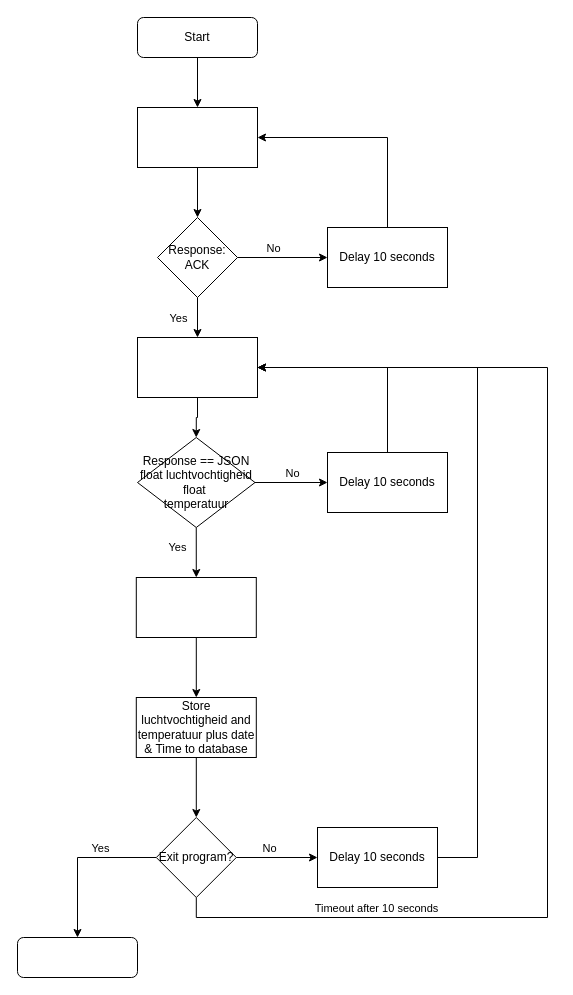
This 573x995 diagram has some shape labels left out. The shapes that lost their labels are listed below. From the top down, each one's box as (x1, y1, x2, y2) in pixels, then its label:
(136, 106, 258, 168): Send handshake or 0b00100100 to sensore
(136, 336, 258, 398): Send measure or 0b10100101 to sensore
(135, 576, 256, 638): Store JSON Response to variable float luchtvochtigheid en float temperatuur
(16, 936, 138, 978): End
